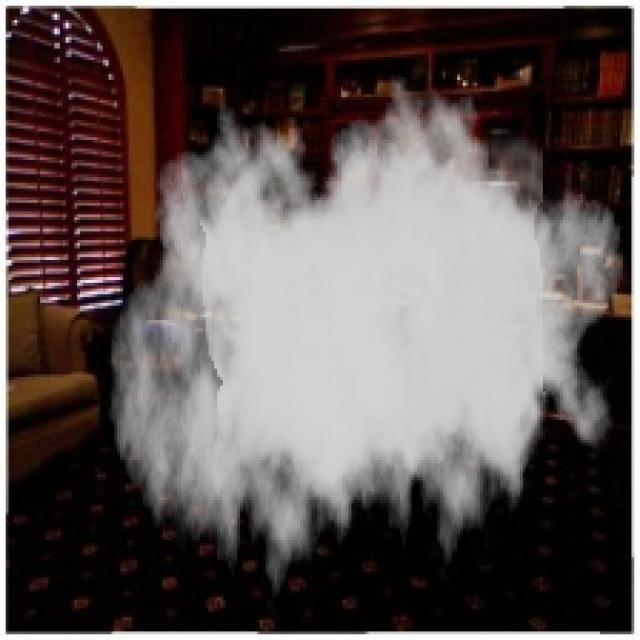Smoke: (109, 65, 626, 620)
